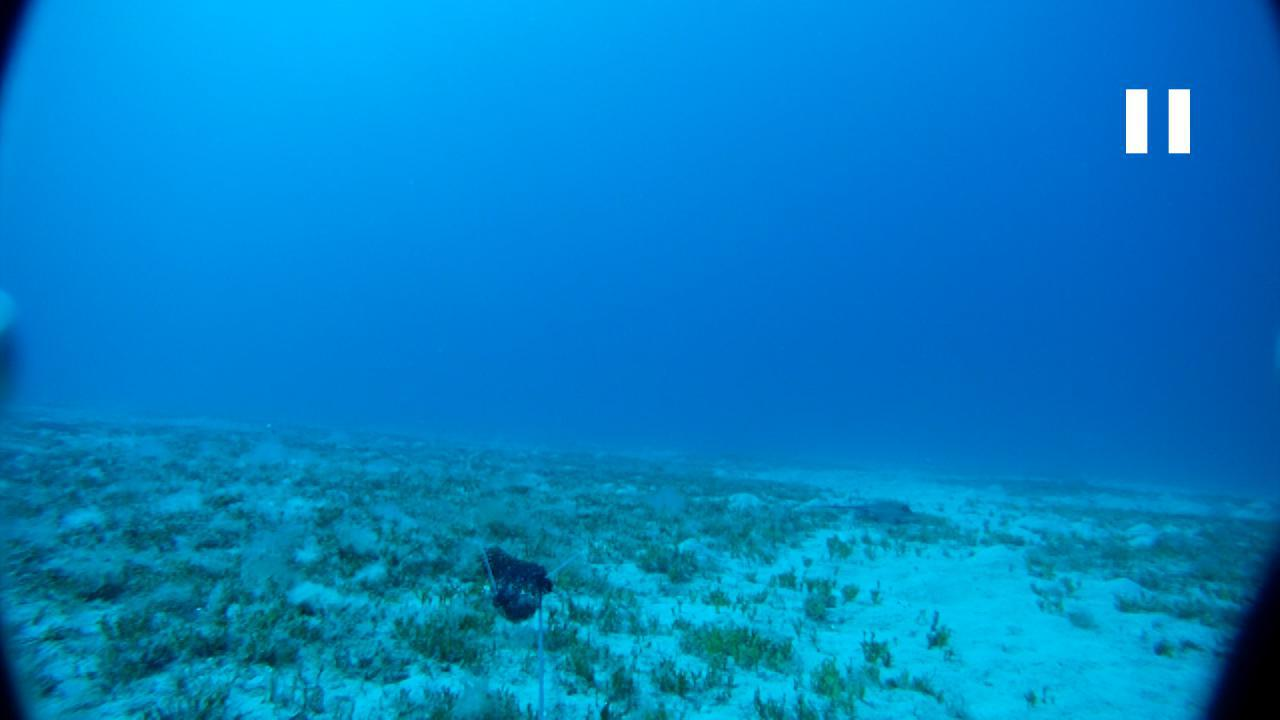dasyatis: (806, 503, 914, 520)
